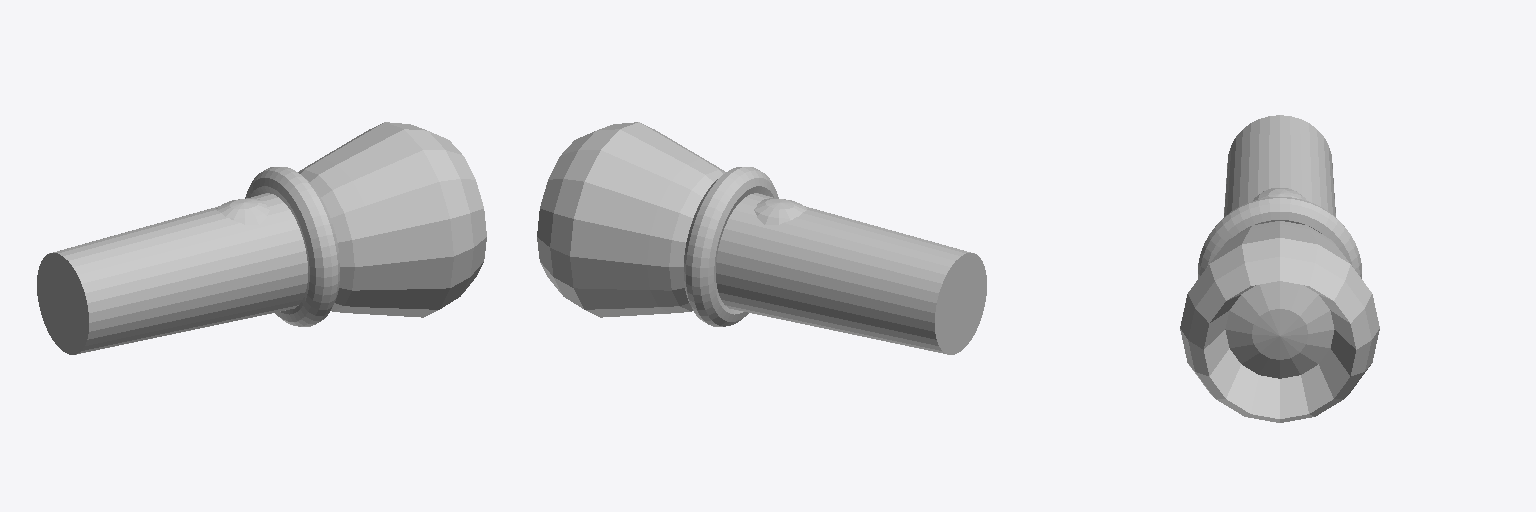
The model's file is Flashlight.obj.
3 renders of one model, left to right at view 1: azimuth 30°, elevation 25°; view 2: azimuth 150°, elevation 25°; view 3: azimuth 270°, elevation 25°, orthographic.
Parts seen in each view (by area): view 1: Cylinder, Sphere, Torus, Sphere.001; view 2: Cylinder, Sphere, Torus, Sphere.001; view 3: Sphere, Cylinder, Torus.
Part boxes in pixels (bbox=[...]): Cylinder: bbox=[37, 193, 307, 354]; Sphere: bbox=[298, 122, 486, 317]; Torus: bbox=[245, 167, 339, 326]; Sphere.001: bbox=[216, 198, 269, 224]; Cylinder: bbox=[716, 193, 986, 354]; Sphere: bbox=[537, 122, 725, 317]; Torus: bbox=[684, 167, 778, 326]; Sphere.001: bbox=[754, 198, 807, 224]; Sphere: bbox=[1180, 221, 1379, 422]; Cylinder: bbox=[1224, 115, 1335, 216]; Torus: bbox=[1198, 197, 1361, 278].
Bounding box in the file's own units: 4.41 × 1.98 × 1.98.